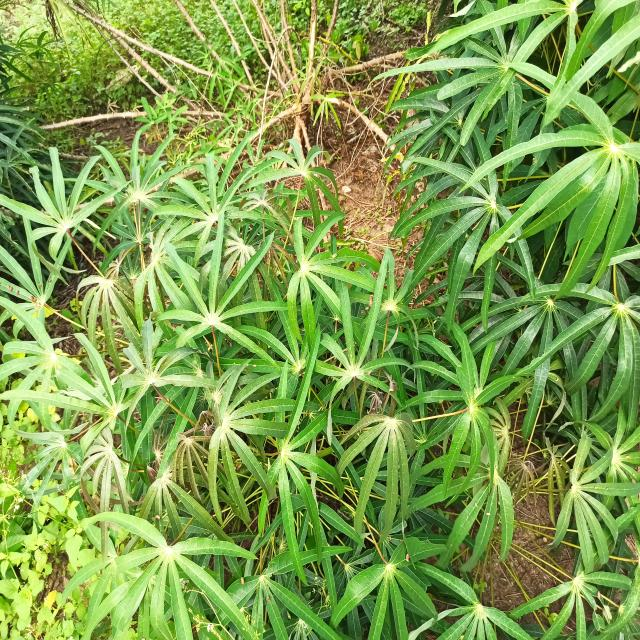Mosca: (4, 283, 25, 298), (250, 358, 265, 375), (400, 548, 415, 563), (234, 575, 245, 587), (486, 508, 495, 521), (263, 592, 272, 605)
